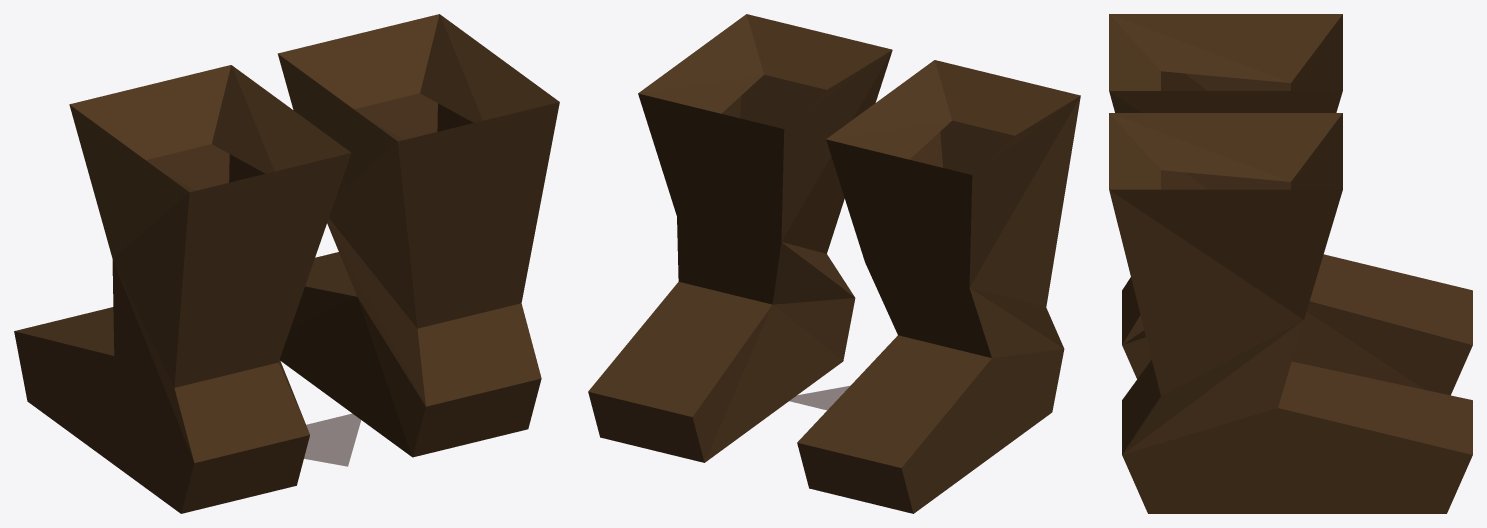
The model's file is npc_world_zoo_keeper_6.obj.
3 views of the same model, side by side, from view 1: azimuth 30°, elevation 25°; view 2: azimuth 150°, elevation 25°; view 3: azimuth 270°, elevation 25° (orthographic). The views are drawn at different scales.
Bounding box in the file's own units: 0.25 × 0.2188 × 0.2188.
